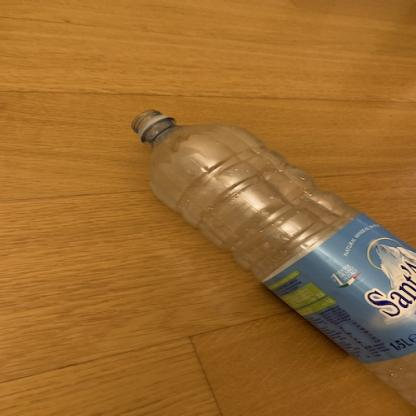trash: (126, 103, 414, 408)
